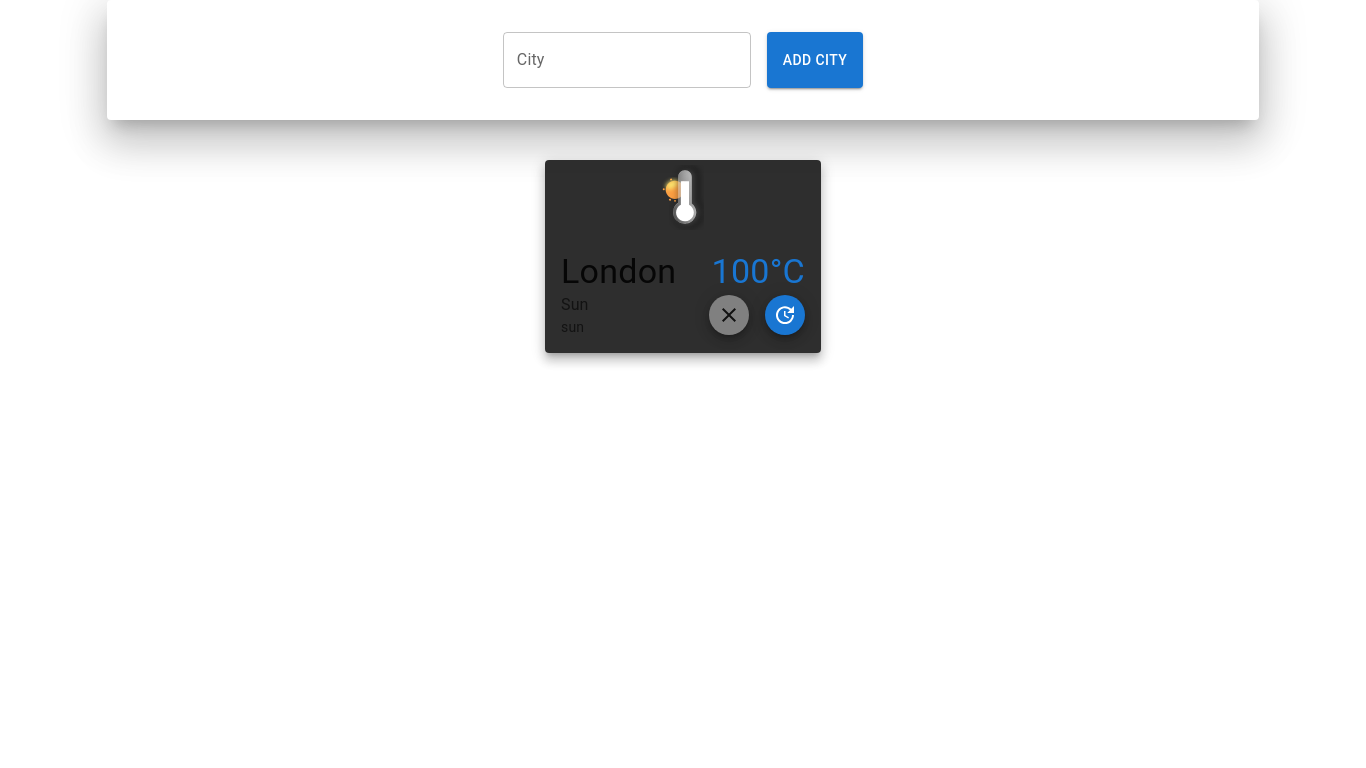
Test: MainPage › After click on card modal opens
This screenshot has width=1366, height=768.
Click the button with test id "cityWeatherCard" at [683, 198], box 545,160 -> 821,353
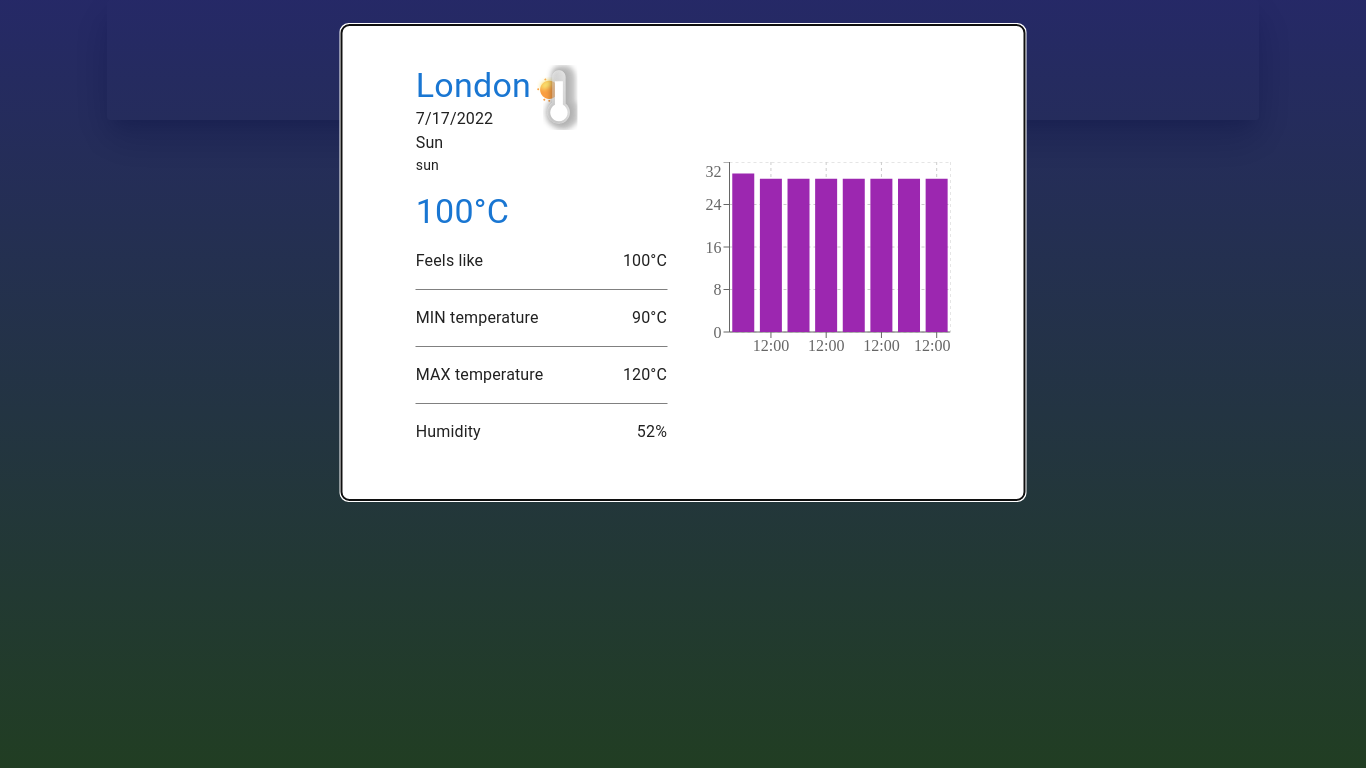
Expected: the element with test id "cityWeatherModal" is shown
